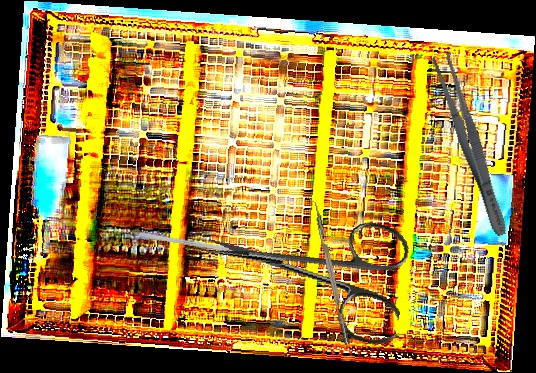Chopper: (305, 193, 350, 347)
Dressing Forceps: (428, 51, 514, 239)
Hook Surgical: (114, 227, 238, 254)
Iris Scissors: (194, 190, 418, 348)
